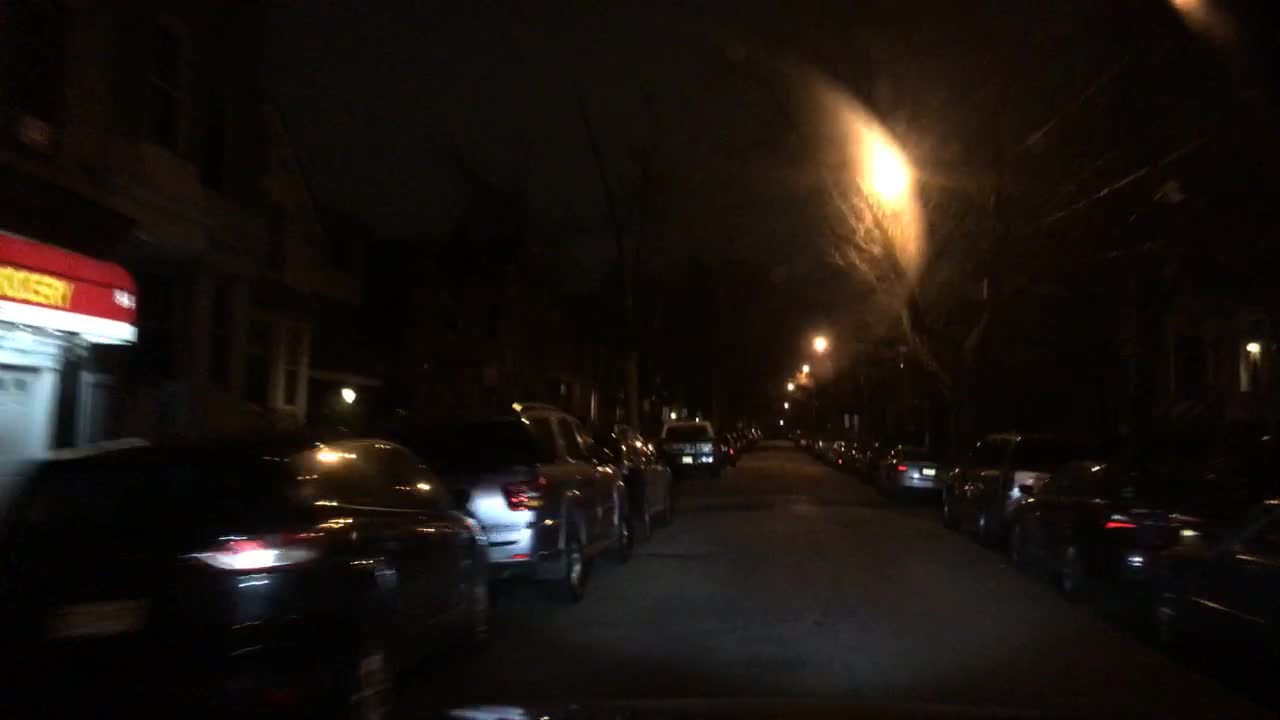car: (0, 434, 494, 718), (403, 398, 639, 603), (995, 462, 1236, 596), (1126, 500, 1278, 695), (940, 431, 1083, 548), (592, 423, 676, 537), (878, 443, 944, 492), (853, 441, 898, 477), (827, 435, 858, 465), (806, 432, 837, 457), (718, 432, 737, 465), (794, 430, 814, 448), (730, 432, 745, 455), (738, 429, 752, 448), (785, 426, 801, 441), (748, 428, 760, 444)
truck: (659, 420, 724, 478)
